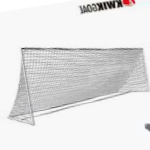goals: (1, 44, 150, 125)
